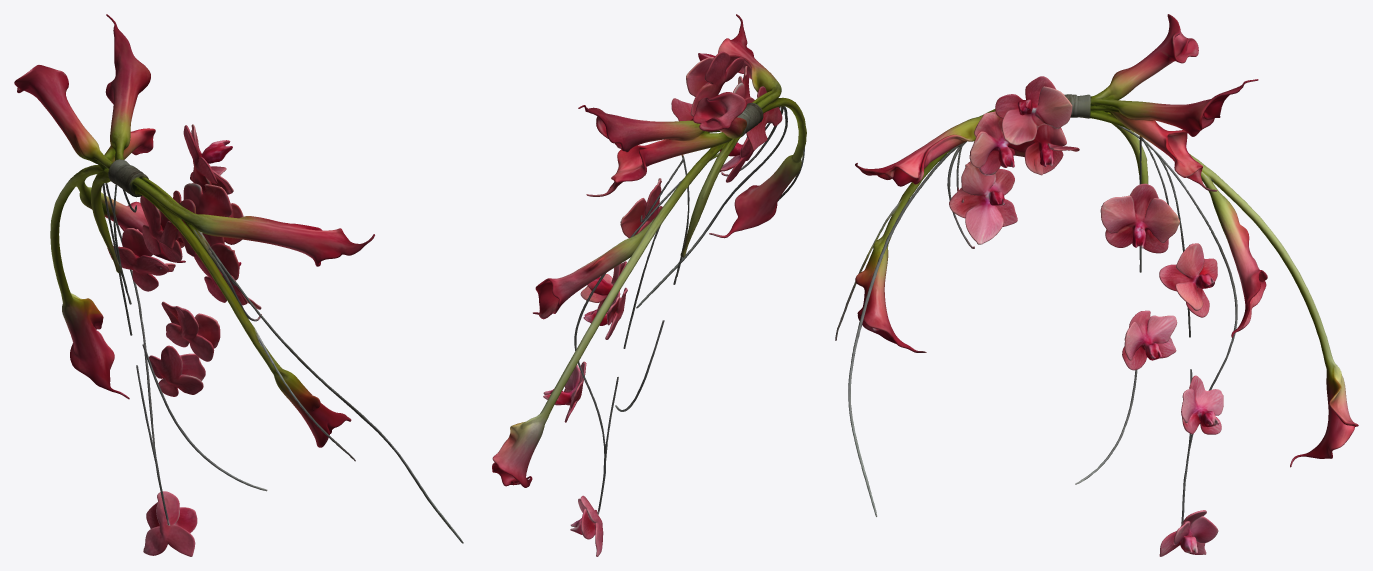
The model's file is crescent_v1.glb.
3 views of the same model, side by side, from view 1: azimuth 30°, elevation 25°; view 2: azimuth 150°, elevation 25°; view 3: azimuth 270°, elevation 25° (orthographic). The views are drawn at different scales.
Visible parts, largest first — view 1: tripo_node_767b9d53-1ba5-4ea1-a29a-315d78413f72; view 2: tripo_node_767b9d53-1ba5-4ea1-a29a-315d78413f72; view 3: tripo_node_767b9d53-1ba5-4ea1-a29a-315d78413f72.
Part boxes in pixels (x1=…): tripo_node_767b9d53-1ba5-4ea1-a29a-315d78413f72: x1=14, y1=14, x2=463, y2=556; tripo_node_767b9d53-1ba5-4ea1-a29a-315d78413f72: x1=492, y1=14, x2=806, y2=556; tripo_node_767b9d53-1ba5-4ea1-a29a-315d78413f72: x1=835, y1=14, x2=1358, y2=556.
Size of the model in its own units: 0.561 by 1 by 0.9835.
Materials: 1 (1 with a texture image).
